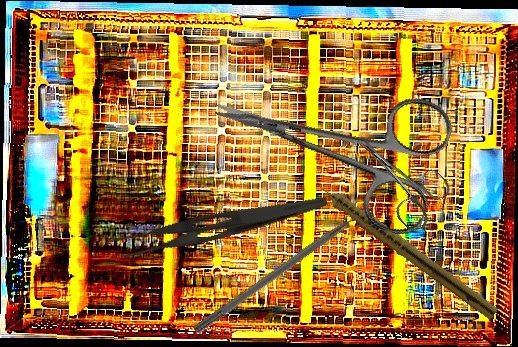Dressing Forceps: (106, 172, 329, 272)
Handpiece: (308, 173, 502, 321)
Iris Scissors: (196, 39, 459, 241), (335, 115, 458, 236)
Pusher: (192, 199, 380, 337)
